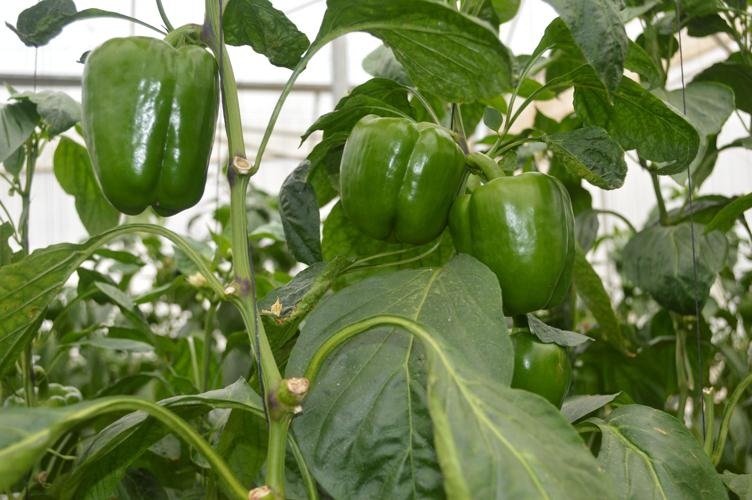BellPepper: (77, 38, 220, 217), (334, 104, 459, 256), (459, 169, 581, 317), (506, 332, 581, 417)
